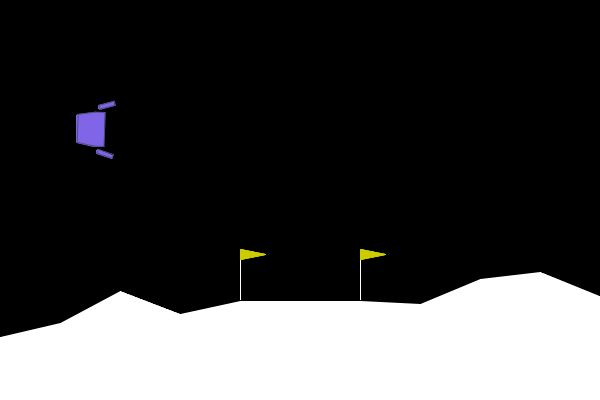lander: (74, 99, 116, 160)
